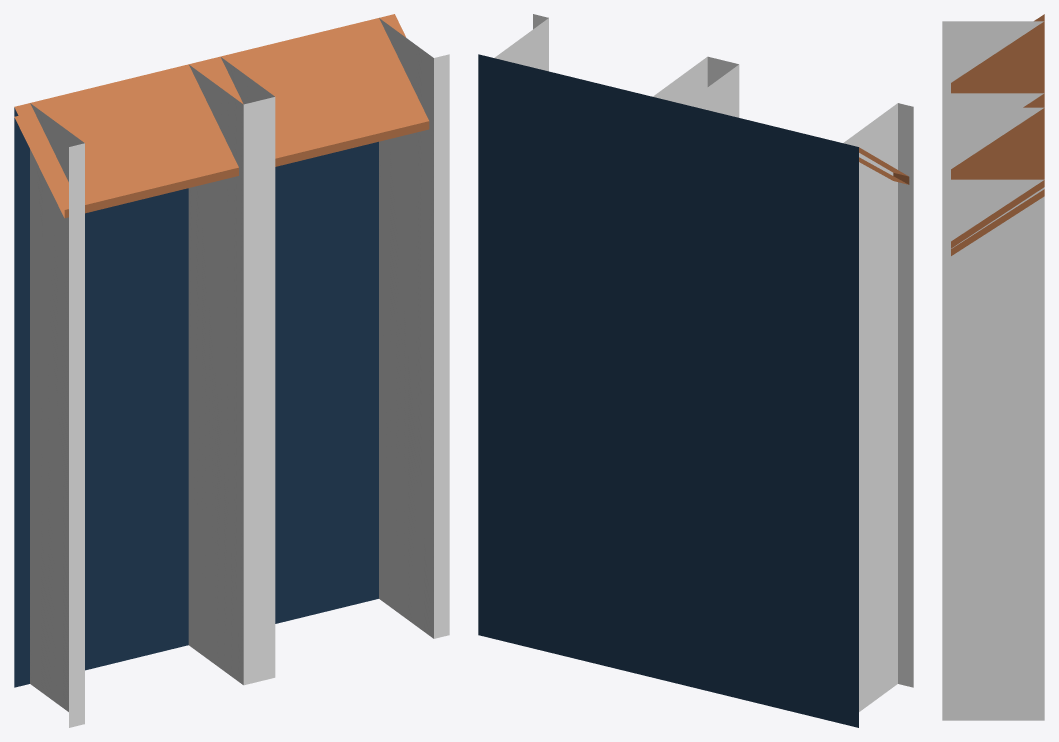
File: mid-w1.fbx
3 views of the same model, side by side, from view 1: azimuth 30°, elevation 25°; view 2: azimuth 150°, elevation 25°; view 3: azimuth 270°, elevation 25° (orthographic). The views are drawn at different scales.
Visible parts, largest first — view 1: a2002/600/mid-w1; view 2: a2002/600/mid-w1; view 3: a2002/600/mid-w1.
Part boxes in pixels (<box>): a2002/600/mid-w1: <box>14,14,449,727</box>; a2002/600/mid-w1: <box>478,14,913,727</box>; a2002/600/mid-w1: <box>942,14,1044,720</box>.
Bounding box in the file's own units: 2.4 × 3.5 × 0.6.
